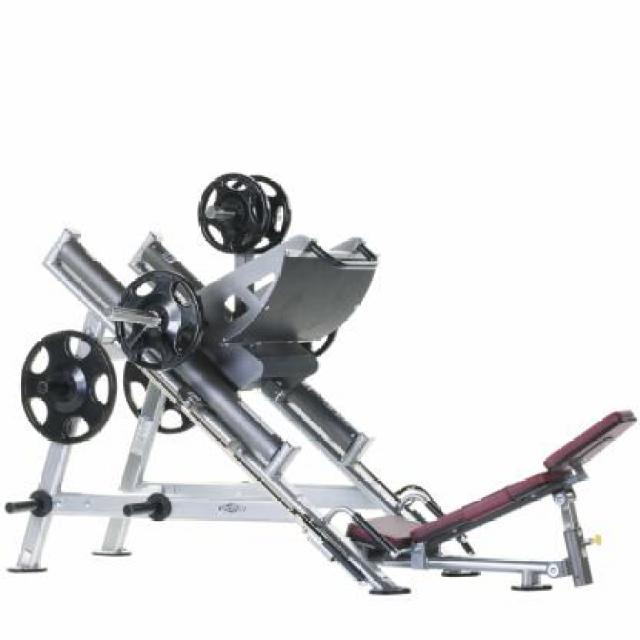leg press: (8, 137, 637, 608)
